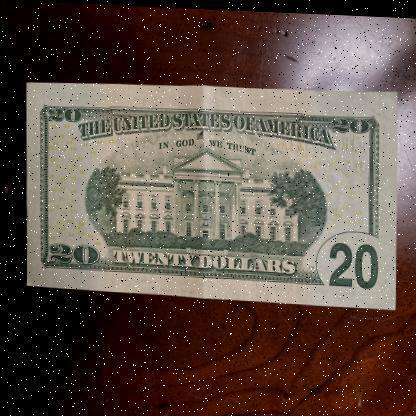twenty-back: (24, 74, 397, 309)
